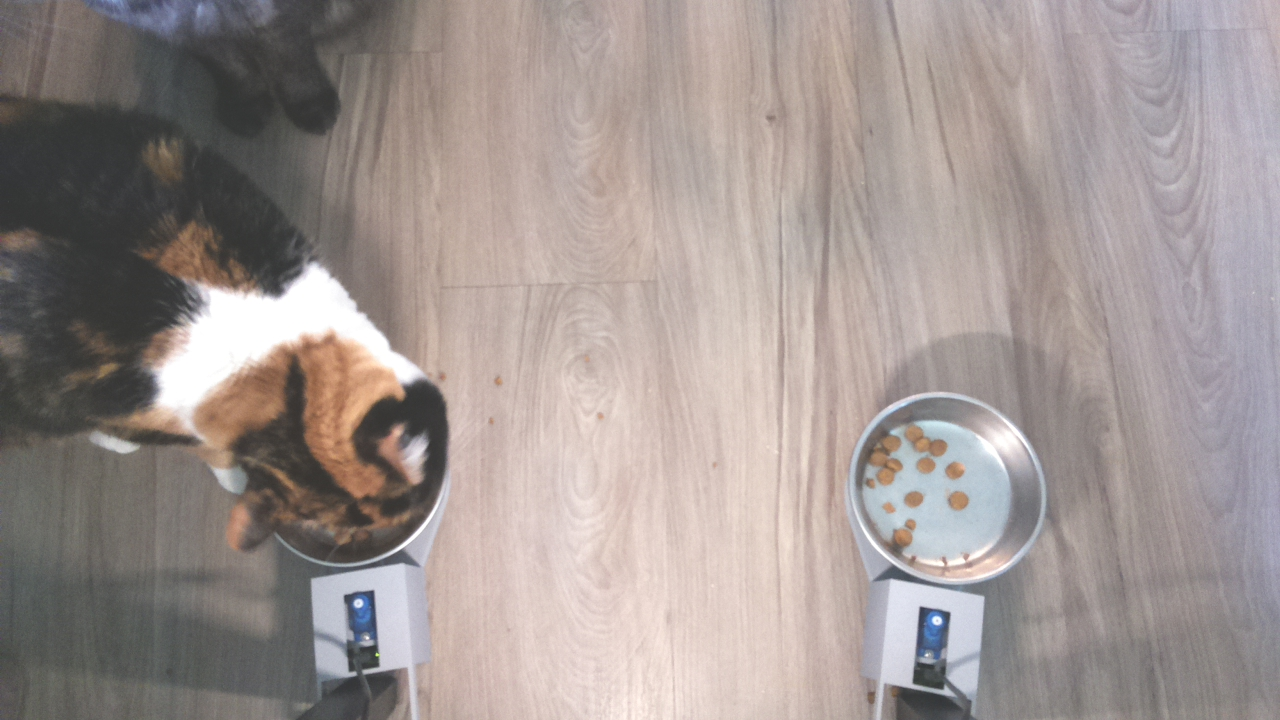bella_eating: (172, 285, 469, 575)
open_bowl: (842, 384, 1056, 600)
